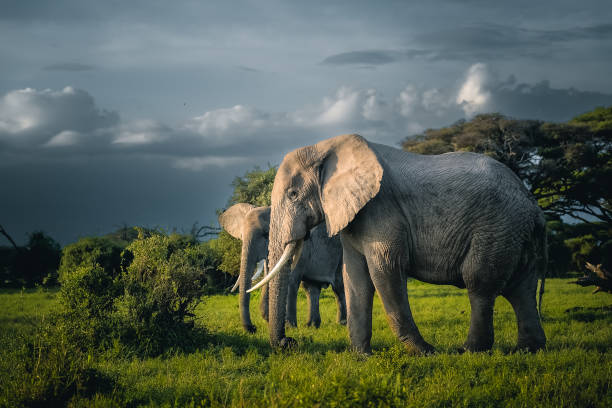africanelephant: (251, 145, 341, 286)
